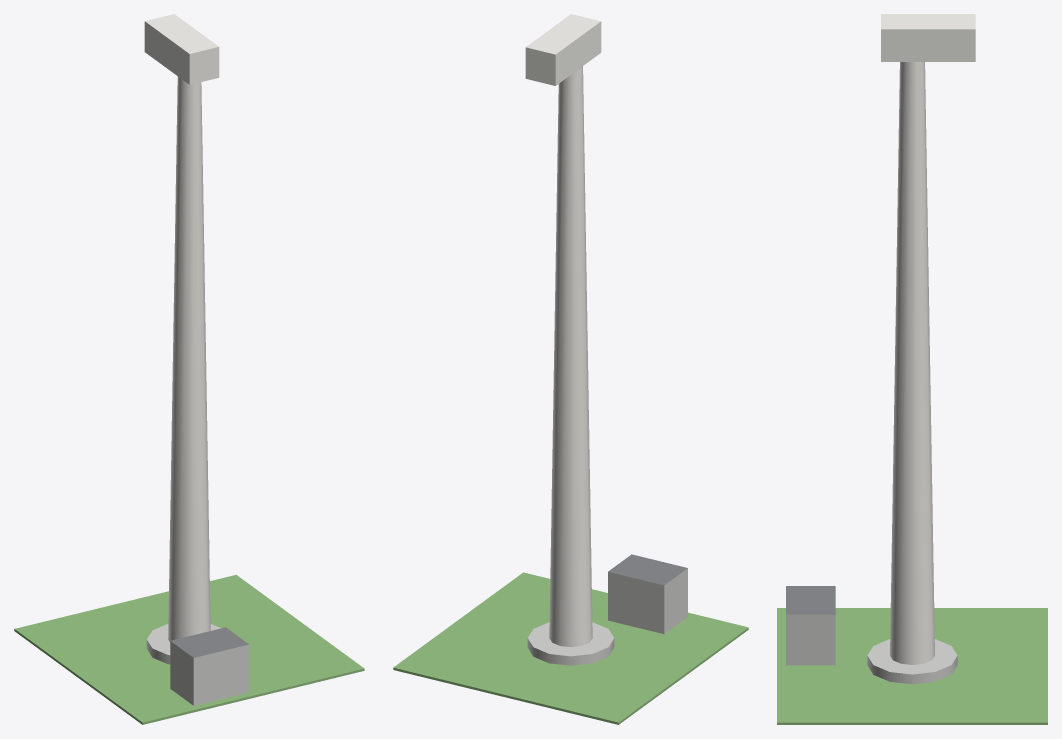
The model's file is wind_turbine.glb.
The picture shows the model from 3 angles, left to right: view 1: azimuth 30°, elevation 25°; view 2: azimuth 150°, elevation 25°; view 3: azimuth 270°, elevation 25°; orthographic projection. The views are drawn at different scales.
Visible parts, largest first — view 1: wind_turbine; view 2: wind_turbine; view 3: wind_turbine.
Part boxes in pixels (x1,y1,x2,y2): wind_turbine: (14,14,364,724); wind_turbine: (393,14,748,724); wind_turbine: (777,14,1047,724).
Size of the model in its own units: 12 by 31.6 by 12.
